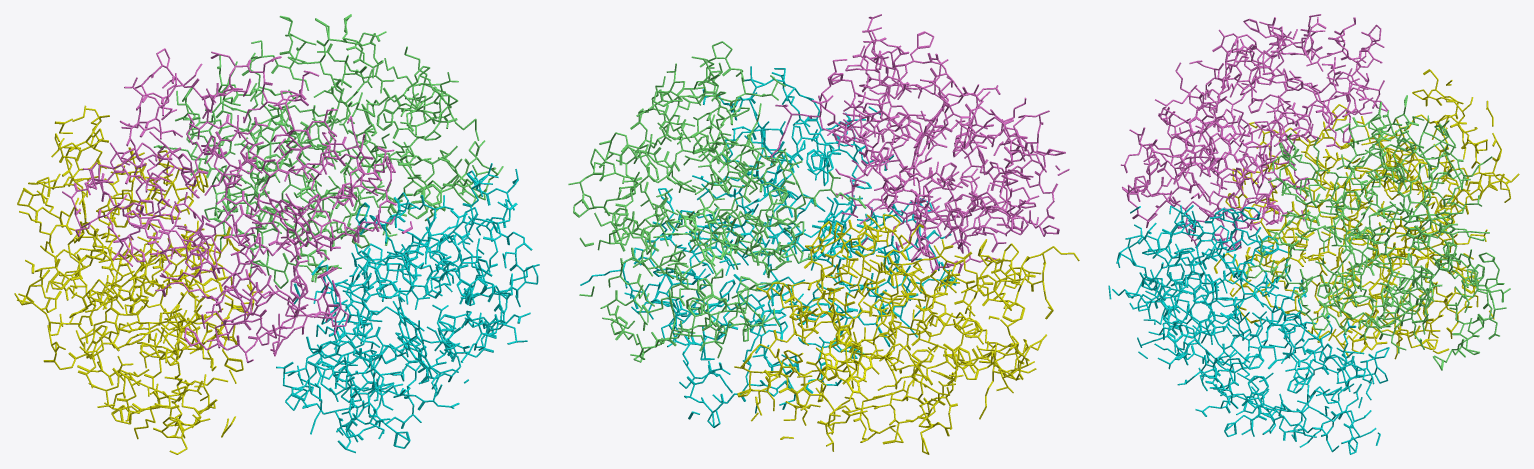
File: 4hhb__lines__chain.glb
3 renders of one model, left to right at view 1: azimuth 30°, elevation 25°; view 2: azimuth 150°, elevation 25°; view 3: azimuth 270°, elevation 25°, orthographic. The views are drawn at different scales.
Visible parts, largest first — view 1: Renderer Node; view 2: Renderer Node; view 3: Renderer Node.
Boxes of the visible parts, x1,y1,x2,y2 form: Renderer Node: (14,14,539,454); Renderer Node: (568,14,1079,454); Renderer Node: (1108,14,1519,454).
Size of the model in its own units: 65.55 by 57.14 by 57.46.
